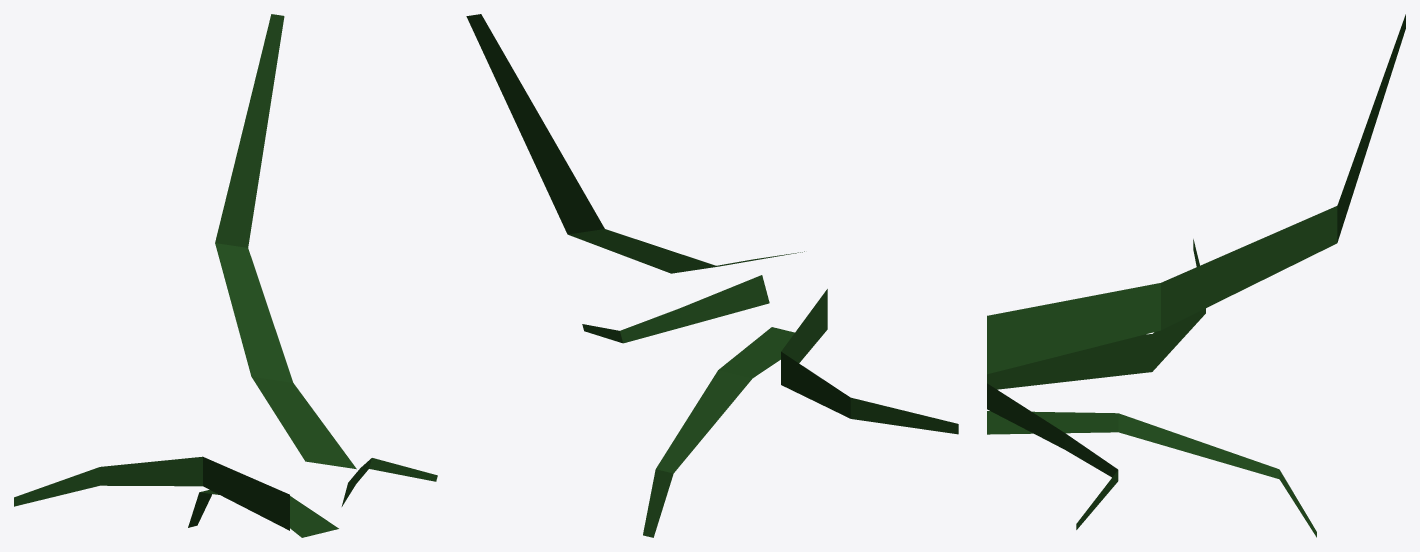
File: gongon_weed.fbx
3 renders of one model, left to right at view 1: azimuth 30°, elevation 25°; view 2: azimuth 150°, elevation 25°; view 3: azimuth 270°, elevation 25°, orthographic. The views are drawn at different scales.
Visible parts, largest first — view 1: weed; view 2: weed; view 3: weed.
Boxes of the visible parts, x1,y1,x2,y2 form: weed: (14, 14, 437, 537); weed: (466, 14, 958, 537); weed: (987, 14, 1405, 537).
Bounding box in the file's own units: 2.2 × 2.55 × 1.64.
